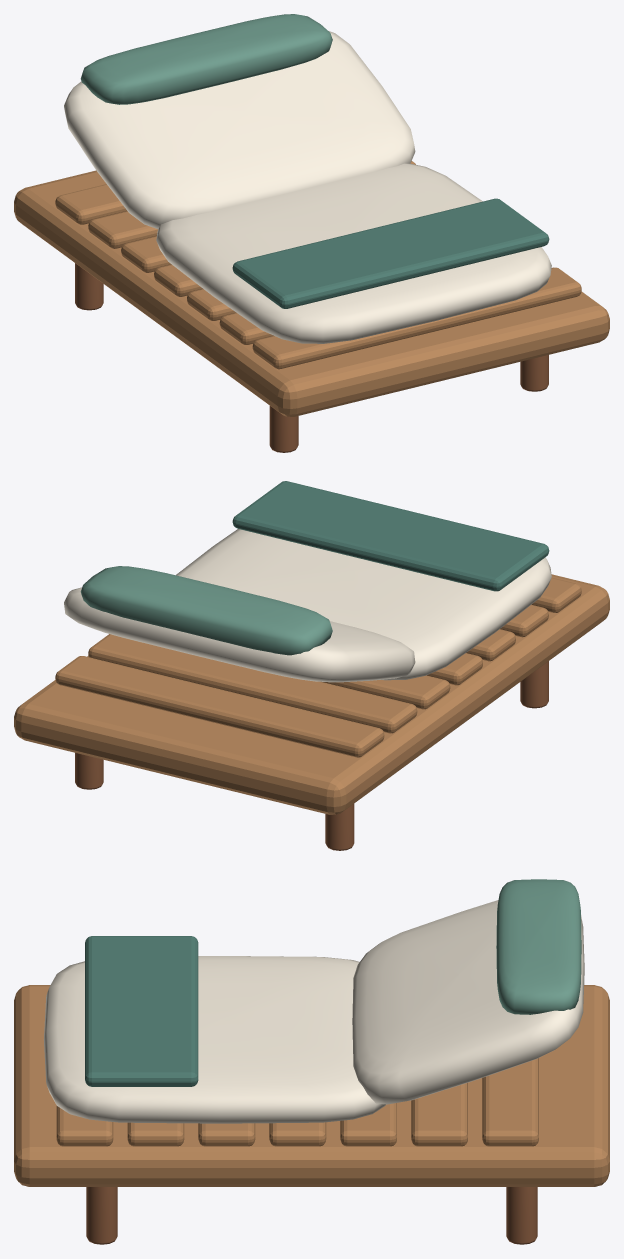
File: pool-lounger.glb
The picture shows the model from 3 angles, top to bottom: view 1: azimuth 30°, elevation 25°; view 2: azimuth 150°, elevation 25°; view 3: azimuth 270°, elevation 25°; orthographic projection. The views are drawn at different scales.
Visible parts, largest first — view 1: pool-lounger / Warm linen, pool-lounger / Oak, pool-lounger / Sea glass runner, pool-lounger / Sea glass upholstery, pool-lounger / Oak endgrain; view 2: pool-lounger / Oak, pool-lounger / Warm linen, pool-lounger / Sea glass runner, pool-lounger / Sea glass upholstery, pool-lounger / Oak endgrain; view 3: pool-lounger / Warm linen, pool-lounger / Oak, pool-lounger / Sea glass runner, pool-lounger / Sea glass upholstery, pool-lounger / Oak endgrain.
Part boxes in pixels (x1,y1,x2,y2): pool-lounger / Warm linen: (64,31,551,343); pool-lounger / Oak: (14,161,609,416); pool-lounger / Sea glass runner: (232,198,549,308); pool-lounger / Sea glass upholstery: (80,14,332,104); pool-lounger / Oak endgrain: (75,263,548,452); pool-lounger / Oak: (14,574,609,814); pool-lounger / Warm linen: (64,529,551,682); pool-lounger / Sea glass runner: (232,481,549,591); pool-lounger / Sea glass upholstery: (80,566,332,655); pool-lounger / Oak endgrain: (75,661,548,850); pool-lounger / Warm linen: (43,900,584,1123); pool-lounger / Oak: (14,985,609,1186); pool-lounger / Sea glass runner: (85,936,198,1086); pool-lounger / Sea glass upholstery: (496,879,581,1014); pool-lounger / Oak endgrain: (86,1187,537,1244).
Bounding box in the file's own units: 1.45 × 0.945 × 2.1.
